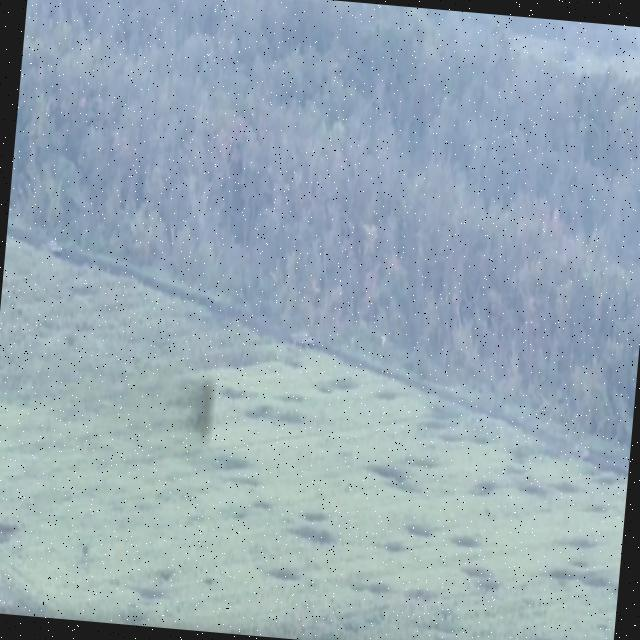AIFV: (288, 326, 316, 353), (43, 236, 66, 262)
